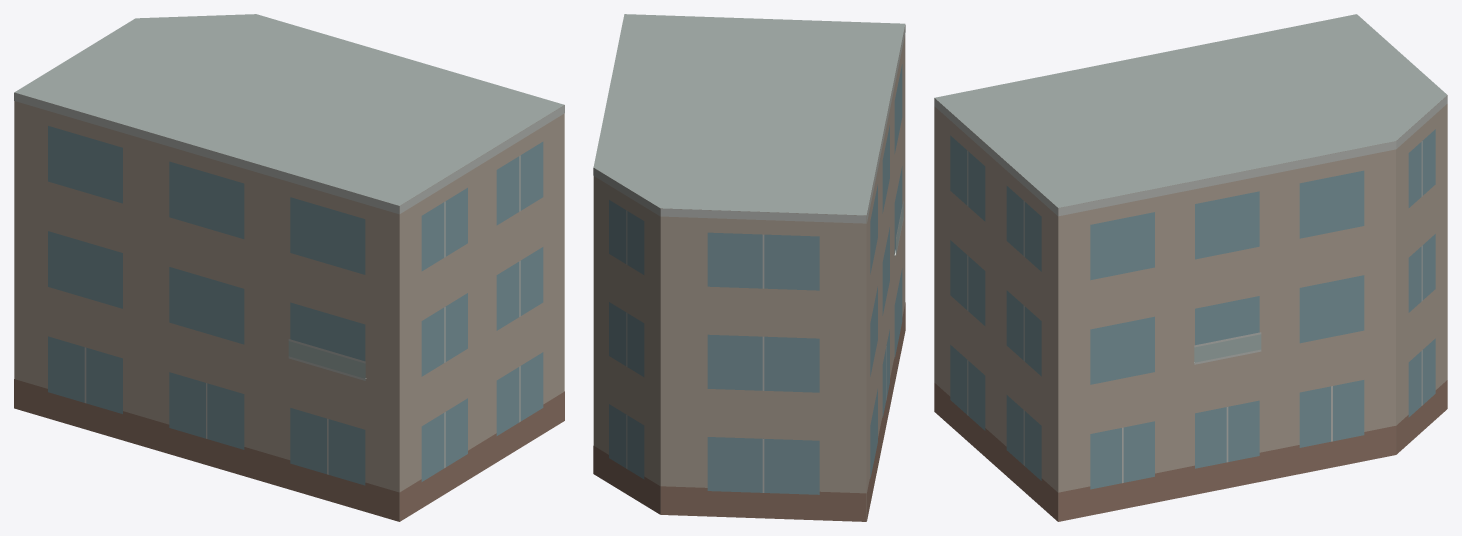
Rendered from survey-upis-32705806.glb.
3 views of the same model, side by side, from view 1: azimuth 30°, elevation 25°; view 2: azimuth 150°, elevation 25°; view 3: azimuth 270°, elevation 25° (orthographic). The views are drawn at different scales.
Parts seen in each view (by area): view 1: survey-upis-32705806.tmp; view 2: survey-upis-32705806.tmp; view 3: survey-upis-32705806.tmp.
Part boxes in pixels (x1=…): survey-upis-32705806.tmp: x1=14, y1=14, x2=564, y2=521; survey-upis-32705806.tmp: x1=593, y1=14, x2=905, y2=521; survey-upis-32705806.tmp: x1=934, y1=14, x2=1447, y2=521.
Bounding box in the file's own units: 12.14 × 9.15 × 13.57.
